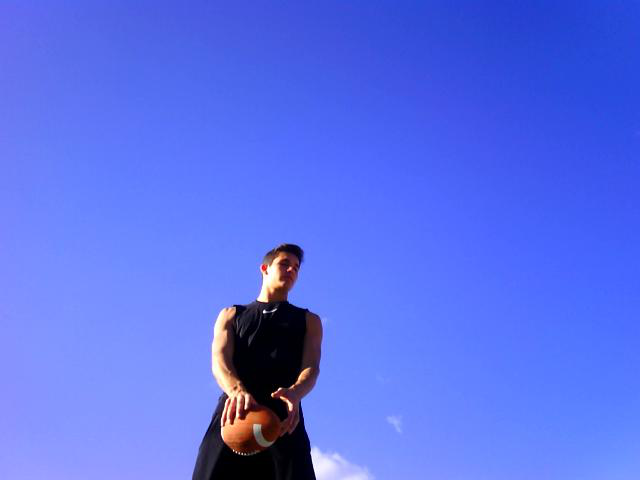football: (220, 403, 280, 458)
